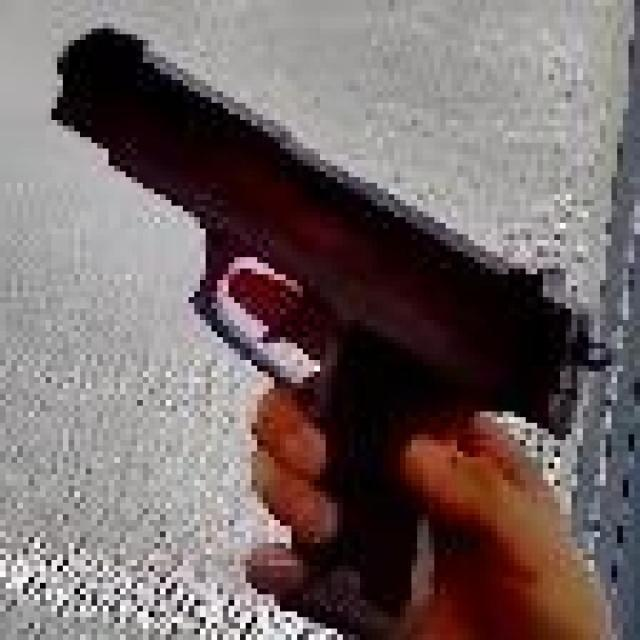pistol: (41, 26, 620, 623)
